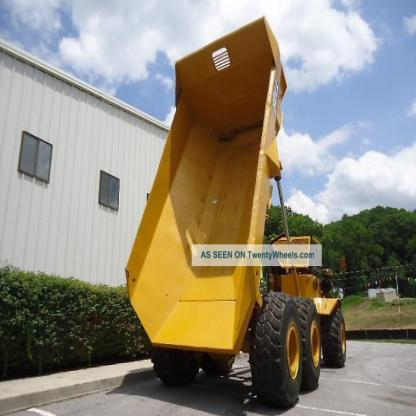dump_truck: (120, 13, 356, 401)
